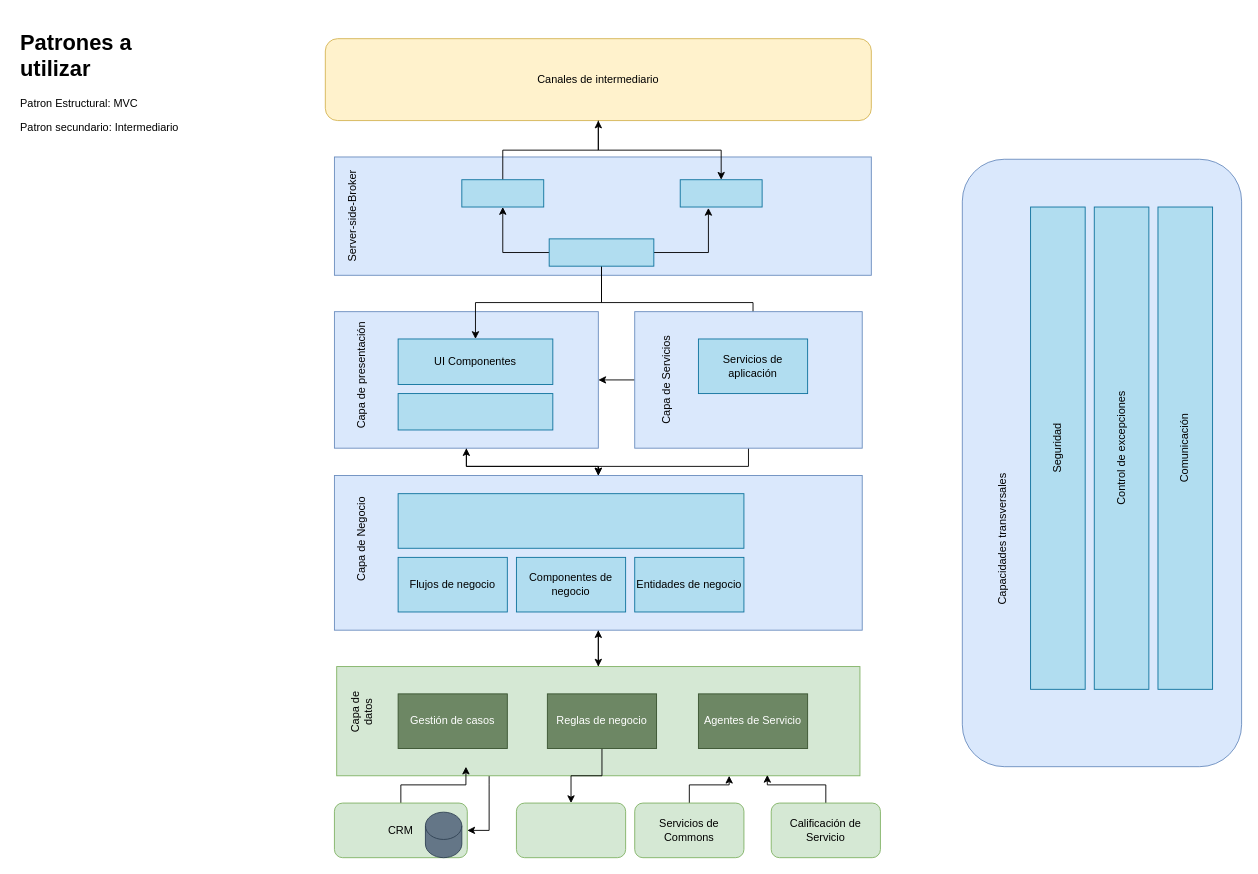
Image size: 1258x874. Some labels were removed from this diagram. The centre of each missing label's shape, as x and y in pixels:
"Fachada de Aplicación" goes at point (570, 520).
"Gestor de reglas de negocio" goes at point (571, 830).
"Invoke" goes at point (601, 252).
"Receive" goes at point (720, 193).
"Send" goes at point (502, 193).
"UI Procesos de componentes" goes at point (475, 411).
